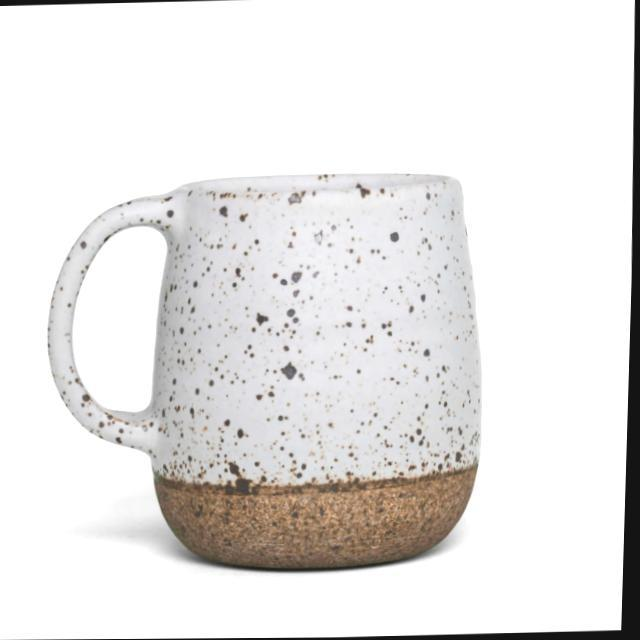cup: (40, 156, 501, 583)
